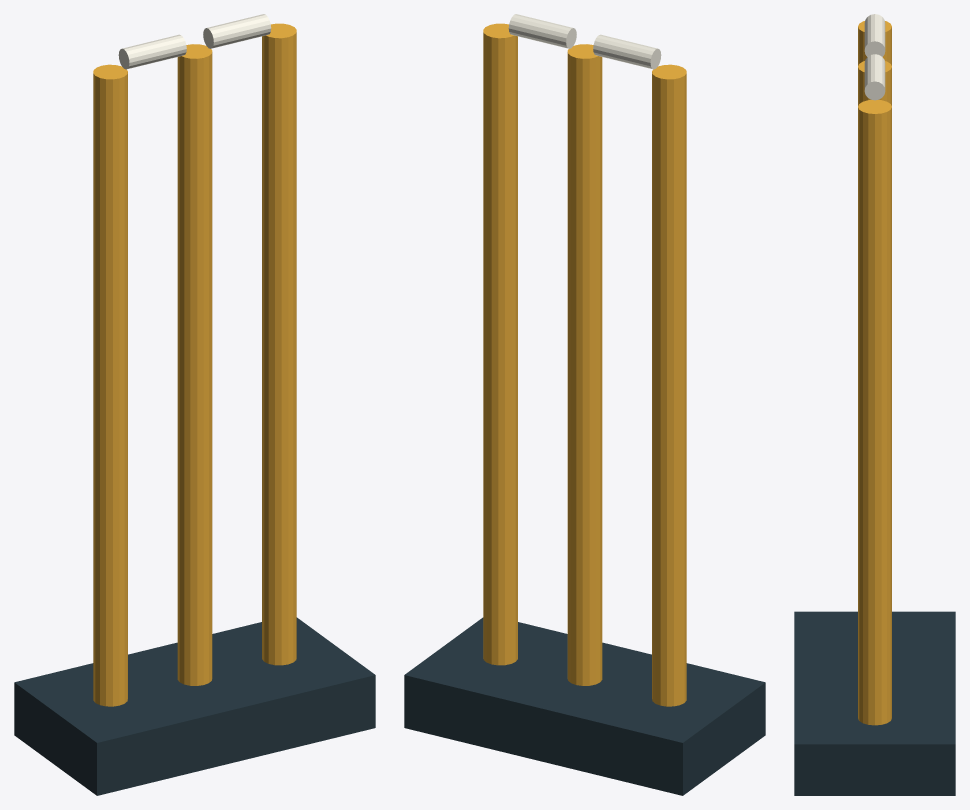
The model's file is scendance-plan-training-wickets.glb.
The picture shows the model from 3 angles, left to right: view 1: azimuth 30°, elevation 25°; view 2: azimuth 150°, elevation 25°; view 3: azimuth 270°, elevation 25°; orthographic projection. The views are drawn at different scales.
Size of the model in its own units: 0.33 by 0.792 by 0.17.
